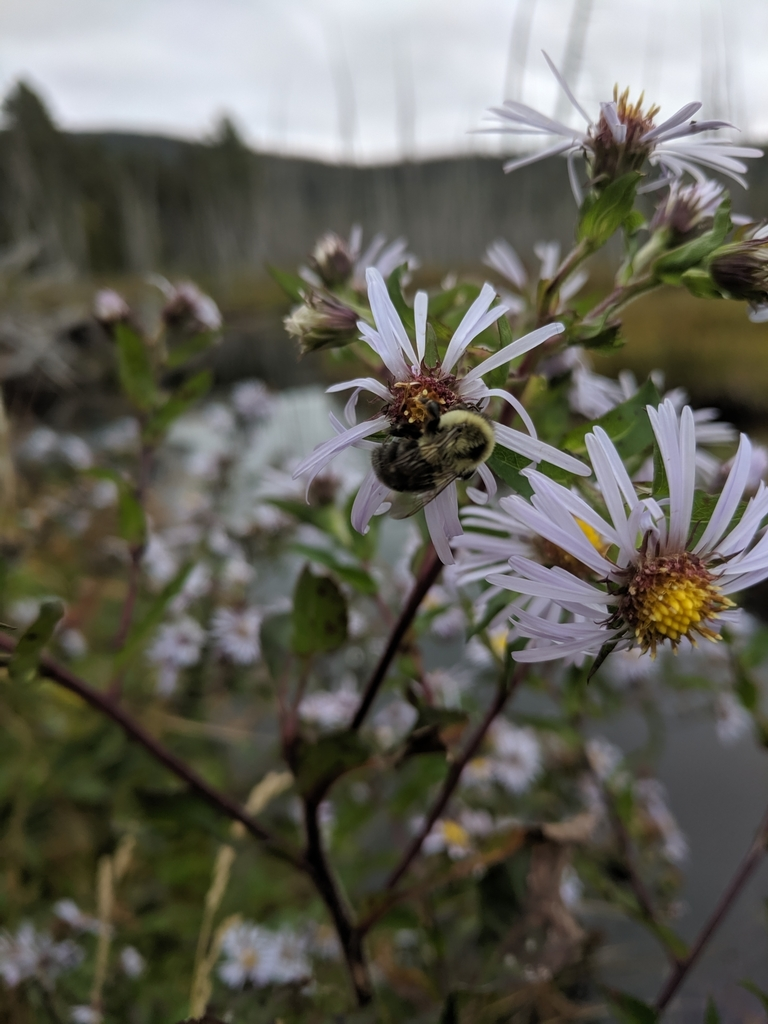bumblebee: (371, 406, 498, 519)
